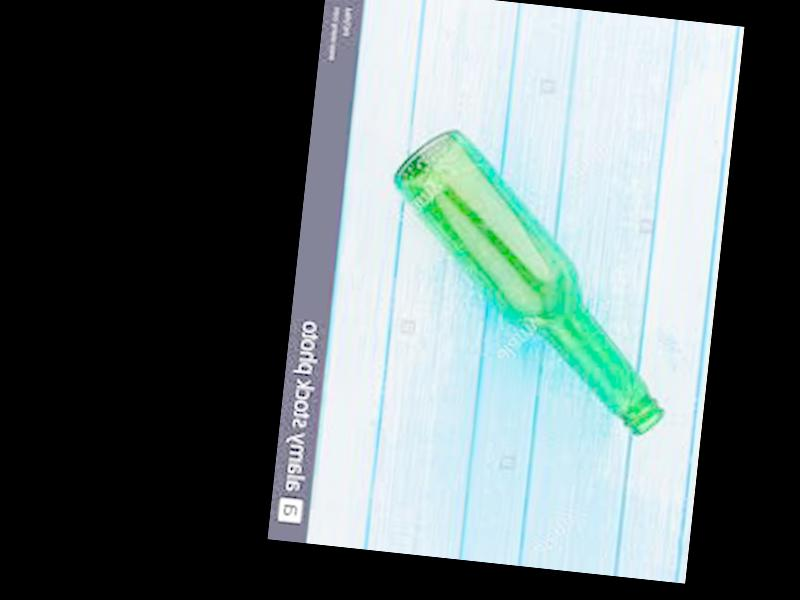Beer: (364, 120, 693, 441)
